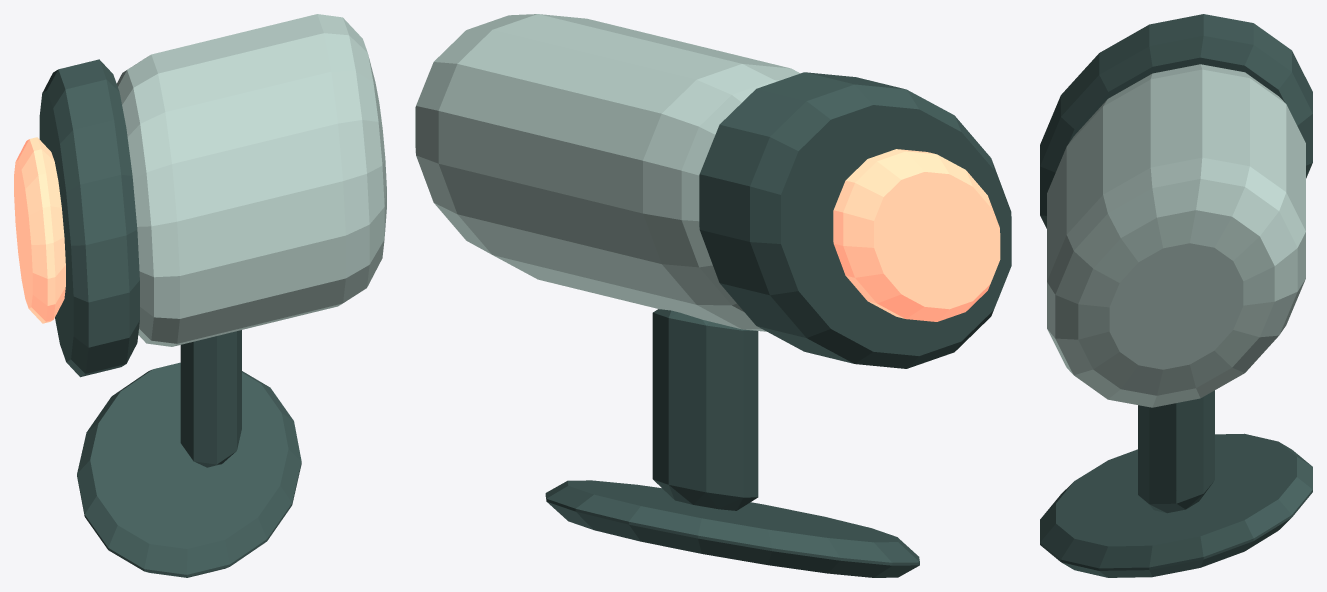
Rendered from Laser_Left.gltf.
The picture shows the model from 3 angles, left to right: view 1: azimuth 30°, elevation 25°; view 2: azimuth 150°, elevation 25°; view 3: azimuth 270°, elevation 25°; orthographic projection. The views are drawn at different scales.
Parts seen in each view (by area): view 1: Laser_Left_baked; view 2: Laser_Left_baked; view 3: Laser_Left_baked.
Part boxes in pixels (bbox=[...]): Laser_Left_baked: bbox=[14, 14, 386, 577]; Laser_Left_baked: bbox=[415, 14, 1011, 577]; Laser_Left_baked: bbox=[1040, 14, 1312, 577].
Size of the model in its own units: 0.7224 by 0.781 by 0.3923.
